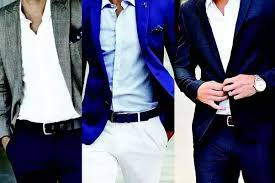F_belt: (10, 116, 84, 138), (105, 110, 165, 126), (205, 114, 252, 129)
